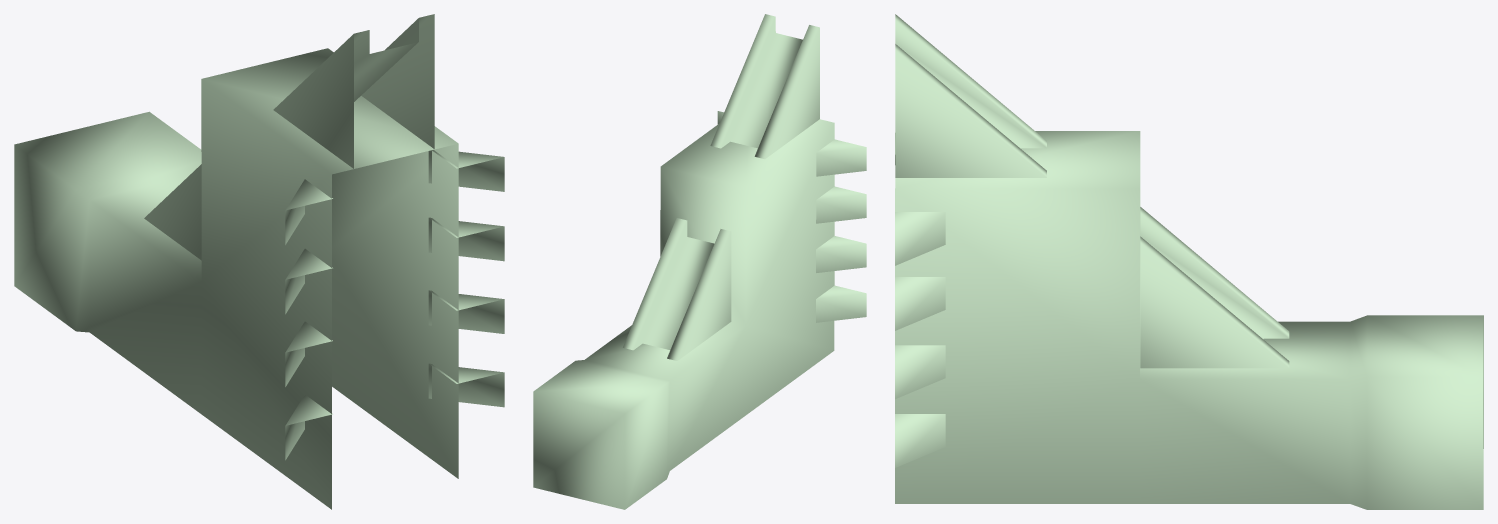
3 views of the same model, side by side, from view 1: azimuth 30°, elevation 25°; view 2: azimuth 150°, elevation 25°; view 3: azimuth 270°, elevation 25° (orthographic). The views are drawn at different scales.
Visible parts, largest first — view 1: Object20; view 2: Object20; view 3: Object20.
Part boxes in pixels (<box>): Object20: <box>14,14,504,509</box>; Object20: <box>533,14,866,509</box>; Object20: <box>895,14,1483,509</box>.
Size of the model in its own units: 28495 by 58991 by 70540.
